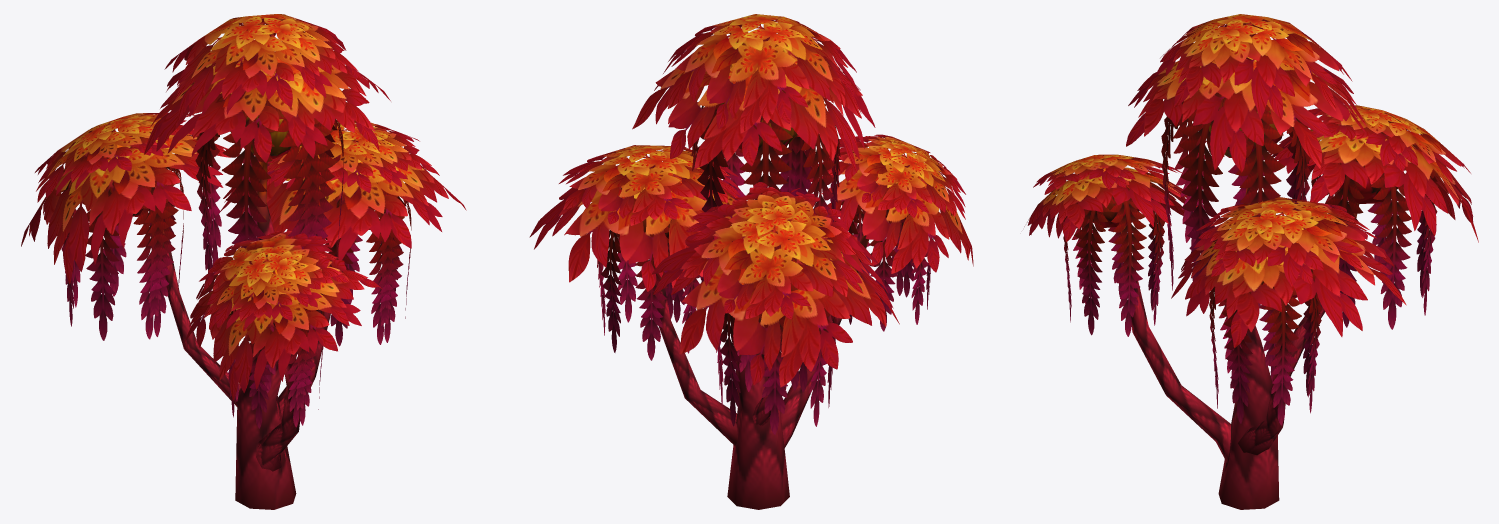
Rendered from Red_Tree_09b.FBX.
The picture shows the model from 3 angles, left to right: view 1: azimuth 30°, elevation 25°; view 2: azimuth 150°, elevation 25°; view 3: azimuth 270°, elevation 25°; orthographic projection.
Visible parts, largest first — view 1: Red_Tree_09b; view 2: Red_Tree_09b; view 3: Red_Tree_09b.
Part boxes in pixels (x1,y1,x2,y2): Red_Tree_09b: (21,14,466,509); Red_Tree_09b: (529,14,973,509); Red_Tree_09b: (1024,14,1478,509).
Bounding box in the file's own units: 308 × 364 × 334.
